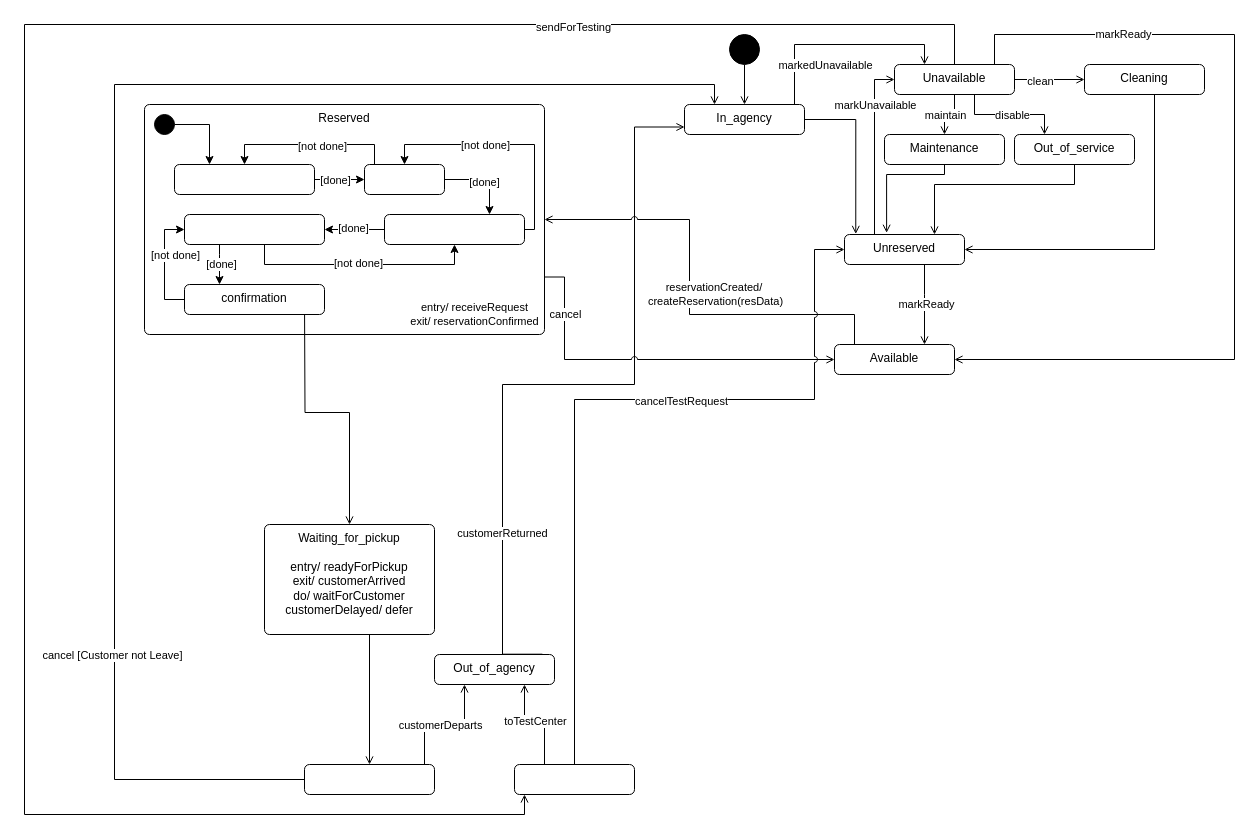
The diagram is 1260 pixels wide and 840 high, and some of its shapes have lost their labels. The box of each missing label's shape, as (x1, y1, x2, y2) in pixels:
approving: (364, 164, 444, 194)
processing_payment: (184, 214, 324, 244)
Processing_request: (174, 164, 314, 194)
selecting_insurance: (384, 214, 524, 244)
Testing: (514, 764, 634, 794)
With_Customer: (304, 764, 434, 794)
